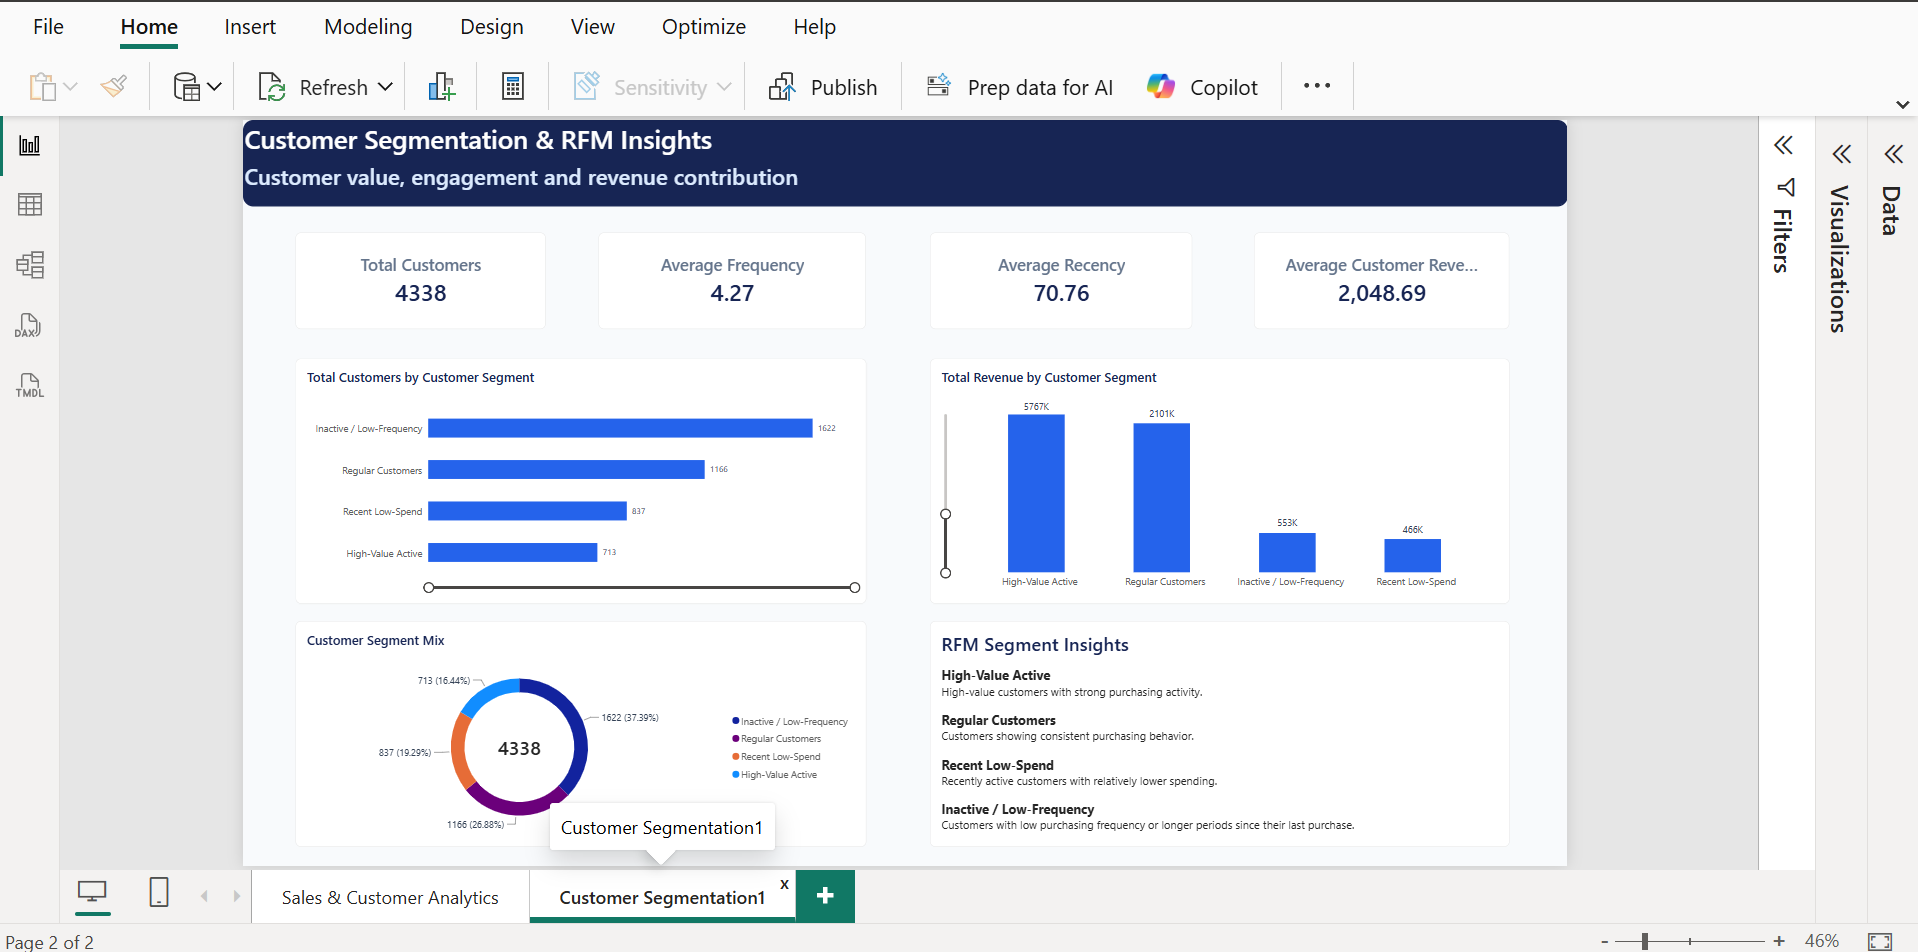

The page's visual inventory and layout, read from the dashboard file:
{"tool":"powerbi","page":{"name":"Customer Segmentation1","canvas":[1920,1080],"ordinal":1},"visuals":[{"type":"textbox","title":"Customer Segmentation & RFM Insights","box":[0,0,1920,125],"z":0},{"type":"cardVisual","fields":{"Data":["Sum(customer_segment_summary.Total_Customers)"]},"box":[75,162.5,362.5,140],"z":1000},{"type":"cardVisual","fields":{"Data":["customer_segment_summary.Average Invoices per Customer"]},"box":[515,162.5,387.5,140],"z":2000},{"type":"cardVisual","fields":{"Data":["Avg(customer_segment_summary.Average_Recency_Days)"]},"box":[995,162.5,380,140],"z":3000},{"type":"cardVisual","fields":{"Data":["customer_segment_summary.Average Customer Revenue"]},"box":[1465,162.5,370,140],"z":4000},{"type":"clusteredBarChart","title":"Total Customers by Customer Segment","fields":{"Category":["customer_segment_summary.Segment_Name"],"Y":["Sum(customer_segment_summary.Total_Customers)"]},"box":[75,345,827.5,355],"z":5000},{"type":"clusteredColumnChart","title":"Total Revenue by Customer Segment","fields":{"Category":["customer_segment_summary.Segment_Name"],"Y":["Sum(customer_segment_summary.Total_Revenue)"]},"box":[995,345,840,355],"z":6000},{"type":"donutChart","title":"Customer Segment Mix","fields":{"Category":["customer_segment_summary.Segment_Name"],"Y":["Sum(customer_segment_summary.Total_Customers)"]},"box":[75,725,827.5,327.5],"z":7000},{"type":"textbox","title":"RFM Segment Insights","box":[995,725,840,327.5],"z":8000}]}

Visuals, with their boxes on the page's 1920x1080 design canvas (x1, y1, x2, y2). These are canvas units, not pixel positions in the 1918x952 screenshot, which may show the page scaled, cropped or inside an application window:
"Customer Segmentation & RFM Insights" textbox: crop(0, 0, 1920, 125)
cardVisual - Sum(customer_segment_summary.Total_Customers): crop(75, 162, 438, 302)
cardVisual - customer_segment_summary.Average Invoices per Customer: crop(515, 162, 902, 302)
cardVisual - Avg(customer_segment_summary.Average_Recency_Days): crop(995, 162, 1375, 302)
cardVisual - customer_segment_summary.Average Customer Revenue: crop(1465, 162, 1835, 302)
"Total Customers by Customer Segment" clusteredBarChart: crop(75, 345, 902, 700)
"Total Revenue by Customer Segment" clusteredColumnChart: crop(995, 345, 1835, 700)
"Customer Segment Mix" donutChart: crop(75, 725, 902, 1052)
"RFM Segment Insights" textbox: crop(995, 725, 1835, 1052)
